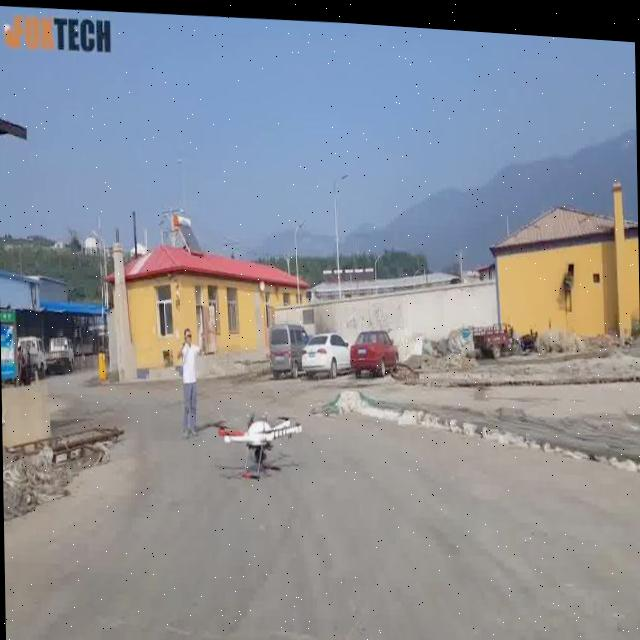drone: (208, 402, 303, 479)
